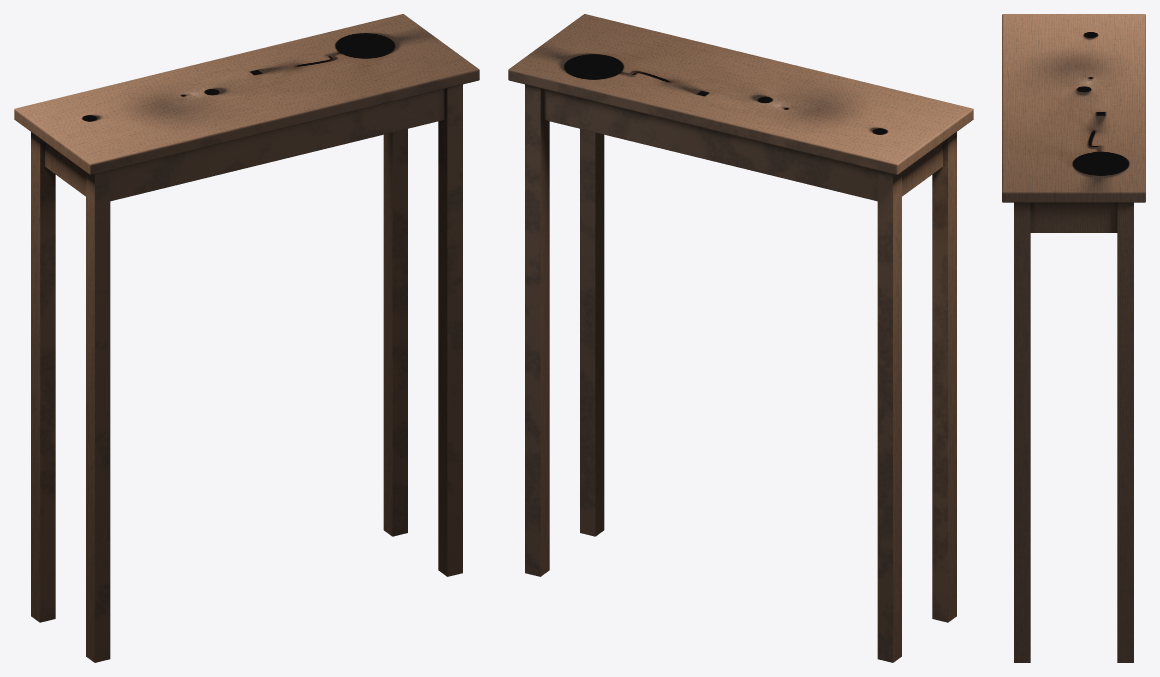
The model's file is 503_hook.glb.
The picture shows the model from 3 angles, left to right: view 1: azimuth 30°, elevation 25°; view 2: azimuth 150°, elevation 25°; view 3: azimuth 270°, elevation 25°; orthographic projection. The views are drawn at different scales.
Parts seen in each view (by area): view 1: Table; view 2: Table; view 3: Table.
Boxes of the visible parts, x1,y1,x2,y2 form: Table: [14, 14, 479, 662]; Table: [508, 14, 973, 662]; Table: [1002, 14, 1145, 662].
Size of what is drawn, in the model's own units: 2.5 by 3.1 by 0.85.
Materials: 1 (1 with a texture image).
